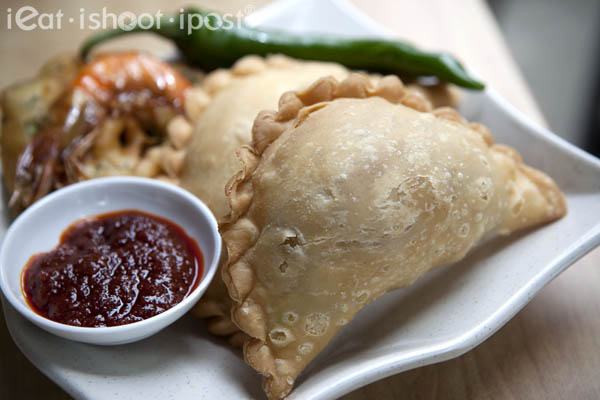Curry Puff: (182, 72, 563, 385), (158, 50, 361, 201)
